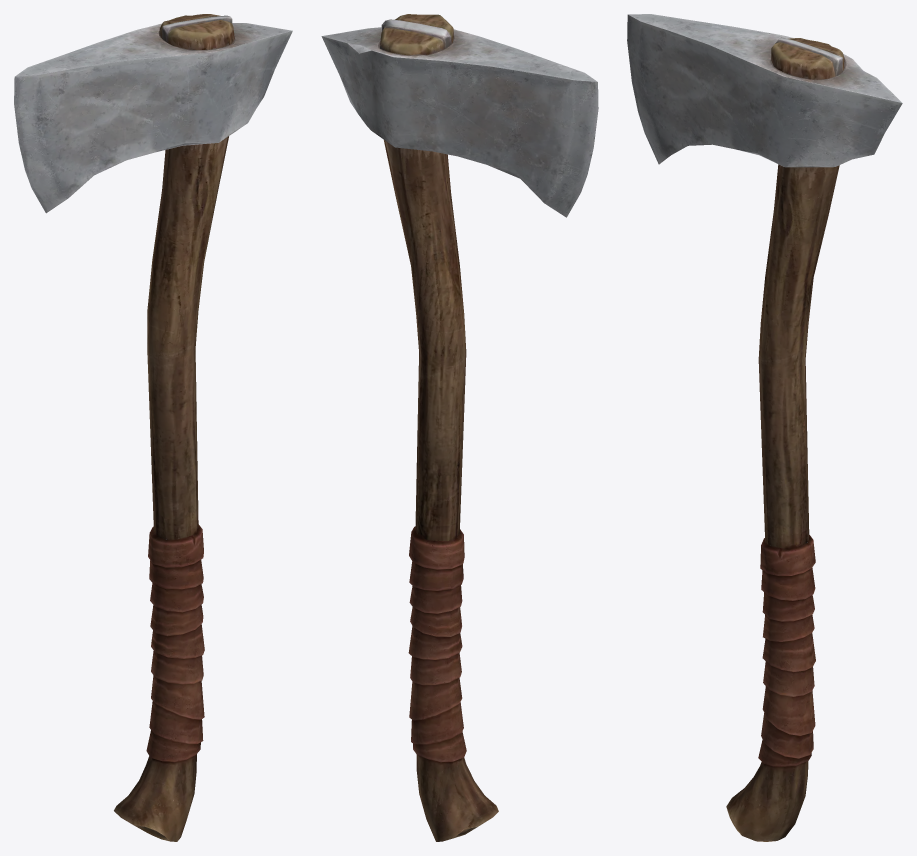
3 views of the same model, side by side, from view 1: azimuth 30°, elevation 25°; view 2: azimuth 150°, elevation 25°; view 3: azimuth 330°, elevation 25° (orthographic).
Parts seen in each view (by area): view 1: SM_LoggingAxe_Iron_2H_01_LOD0; view 2: SM_LoggingAxe_Iron_2H_01_LOD0; view 3: SM_LoggingAxe_Iron_2H_01_LOD0.
Part boxes in pixels (bbox=[...]): SM_LoggingAxe_Iron_2H_01_LOD0: bbox=[14, 14, 292, 841]; SM_LoggingAxe_Iron_2H_01_LOD0: bbox=[321, 14, 598, 841]; SM_LoggingAxe_Iron_2H_01_LOD0: bbox=[627, 14, 902, 841].
Bounding box in the file's own units: 0.4191 × 1.16 × 0.1177.
1 material, 1 textured.
